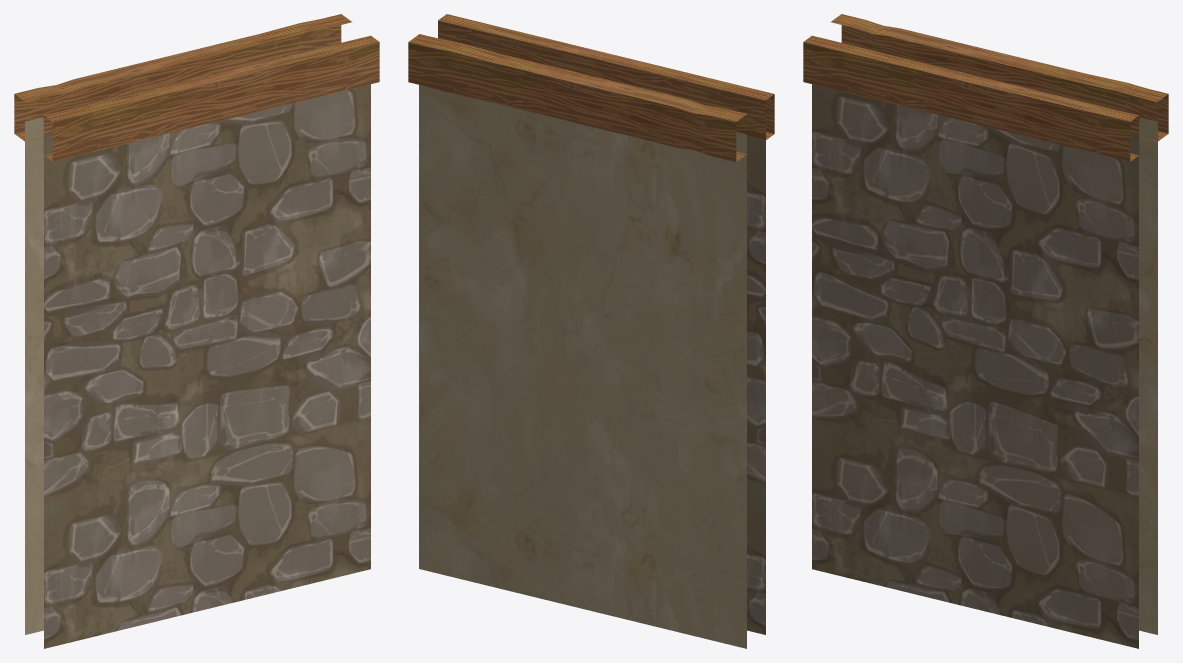
Rendered from quaternius-gate-wall-straight.glb.
The picture shows the model from 3 angles, left to right: view 1: azimuth 30°, elevation 25°; view 2: azimuth 150°, elevation 25°; view 3: azimuth 330°, elevation 25°; orthographic projection.
Visible parts, largest first — view 1: Wall_UnevenBrick_Straight; view 2: Wall_UnevenBrick_Straight; view 3: Wall_UnevenBrick_Straight.
Boxes of the visible parts, left/top/right/bottom form: Wall_UnevenBrick_Straight: left=14, top=14, right=379, bottom=648; Wall_UnevenBrick_Straight: left=408, top=14, right=774, bottom=648; Wall_UnevenBrick_Straight: left=803, top=14, right=1168, bottom=648.
Bounding box in the file's own units: 2 × 3.12 × 0.4065.
3 materials, 3 textured.
